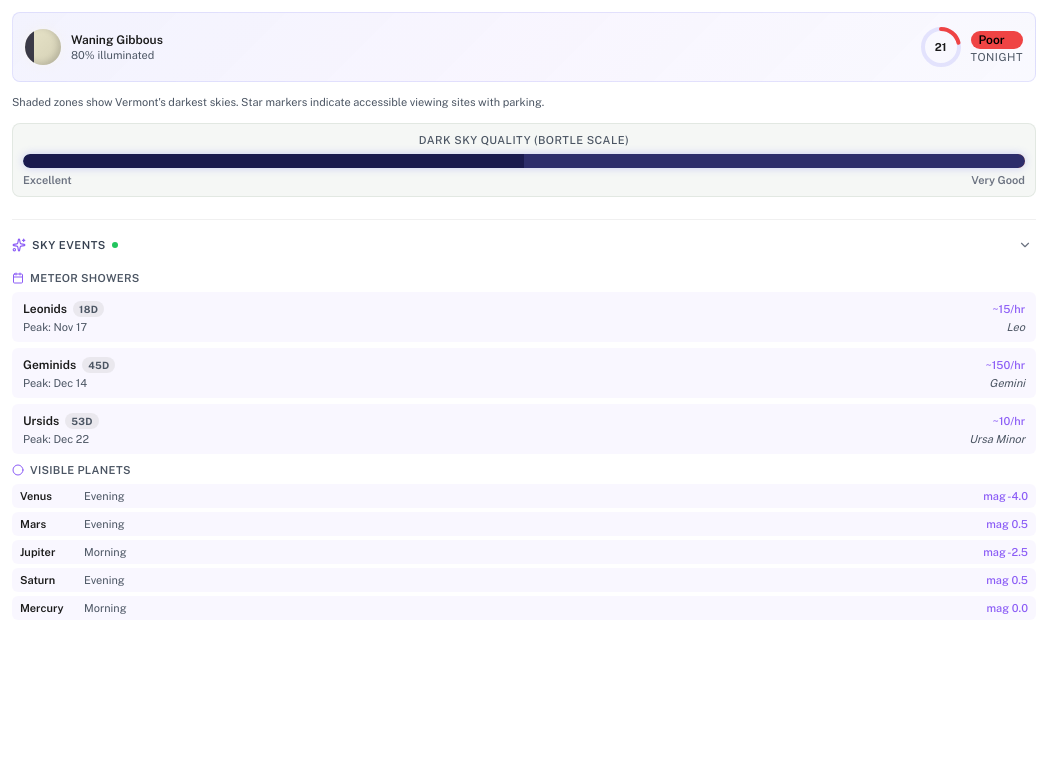
Test: StargazingLayer › renders the conditions card, legend detail on hover and astronomy events
This screenshot has width=1048, height=768.
Check: the text "Tonight" is shown, box [970,51,1023,63]
Check: the text "Sky Events" is shown, box [32,238,106,250]
Hover over the element named "Class 2: Typical truly dark site": [274, 160] box [23,154,524,168]
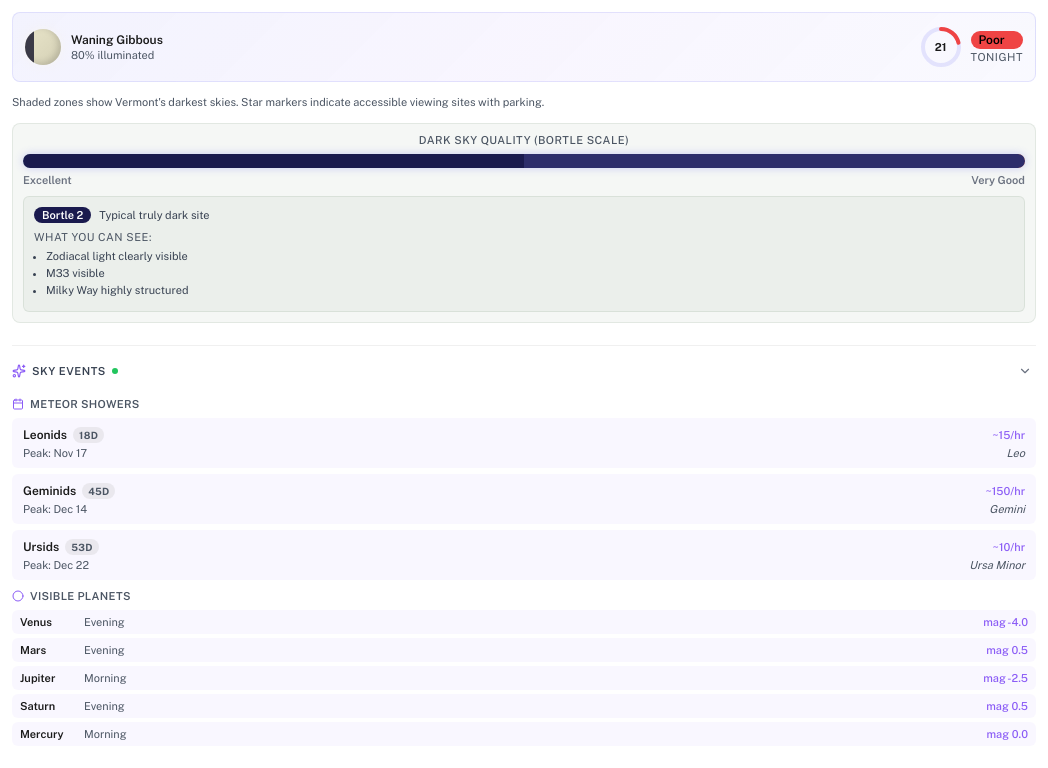
Check: the text "What you can see:" is shown, box [34,230,152,242]
Move the pointer off the element named "Class 2: Typical truly dark site", box [23,149,524,172]
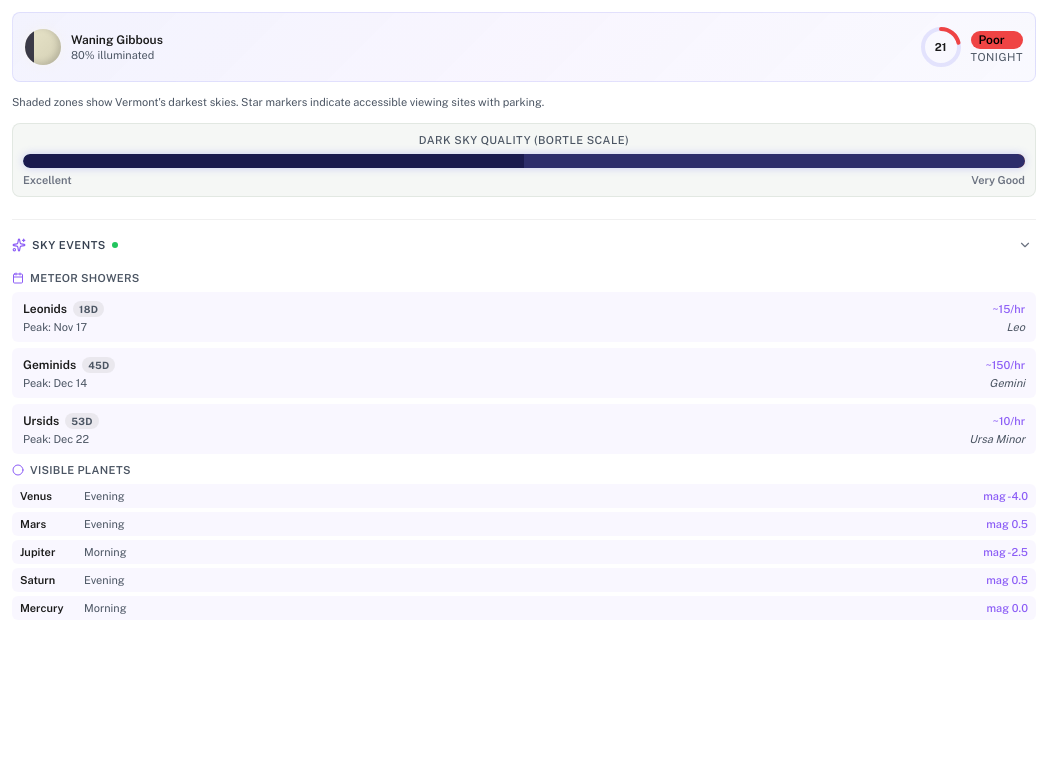
Check: the text "What you can see:" is gone
